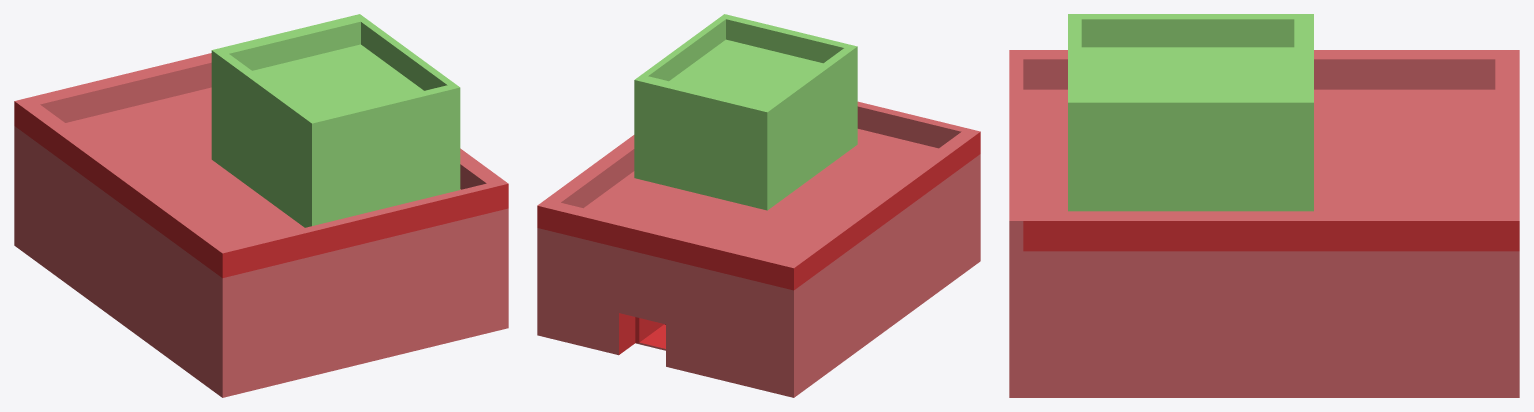
The model's file is house.fbx.
3 renders of one model, left to right at view 1: azimuth 30°, elevation 25°; view 2: azimuth 150°, elevation 25°; view 3: azimuth 270°, elevation 25°, orthographic. The views are drawn at different scales.
Parts seen in each view (by area): view 1: Cube, Cube.001; view 2: Cube, Cube.001; view 3: Cube, Cube.001.
Boxes of the visible parts, x1=… form: Cube: x1=14, y1=53, x2=508, y2=397; Cube.001: x1=211, y1=14, x2=460, y2=227; Cube: x1=537, y1=101, x2=980, y2=397; Cube.001: x1=634, y1=14, x2=857, y2=210; Cube: x1=1009, y1=50, x2=1519, y2=397; Cube.001: x1=1068, y1=14, x2=1313, y2=211.
Size of the model in its own units: 1087 by 832 by 1370.
